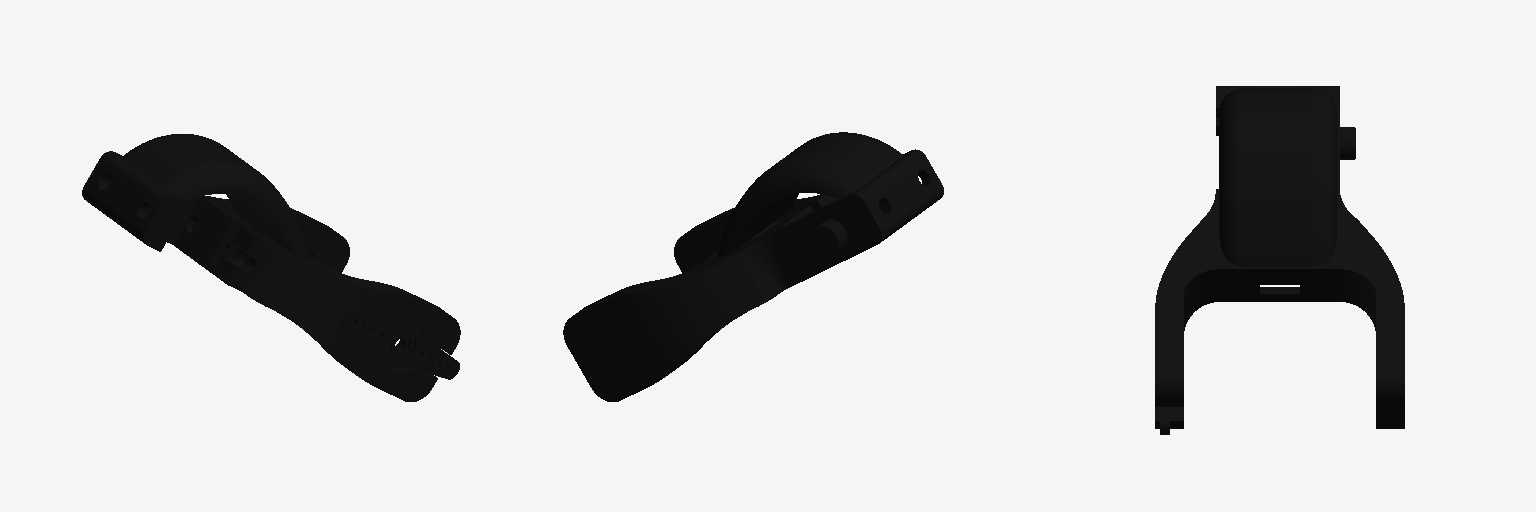
Rendered from LegMiddle.obj.
3 renders of one model, left to right at view 1: azimuth 30°, elevation 25°; view 2: azimuth 150°, elevation 25°; view 3: azimuth 270°, elevation 25°, orthographic.
Visible parts, largest first — view 1: Shield, Arm; view 2: Shield; view 3: Shield.
Part boxes in pixels (x1,y1,x2,y2): Shield: (82, 134, 460, 401); Arm: (341, 310, 459, 379); Shield: (563, 132, 943, 401); Shield: (1155, 86, 1404, 428).
Bounding box in the file's own units: 0.0821 × 0.0673 × 0.0615.